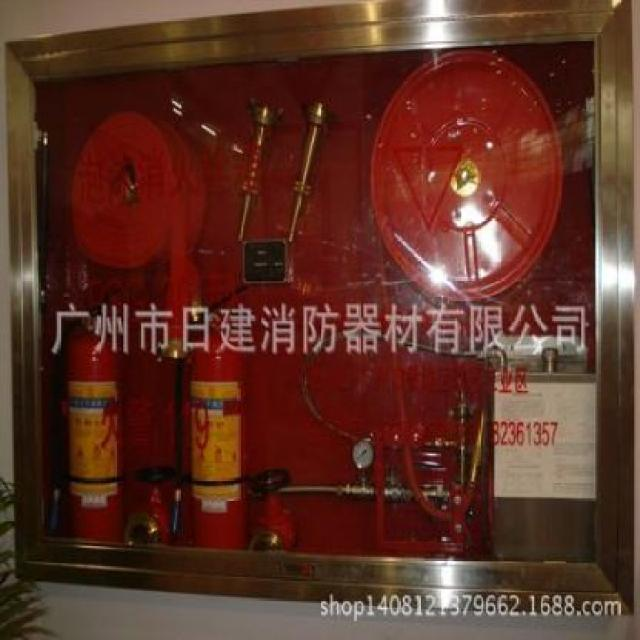firehydrant: (1, 0, 640, 623)
